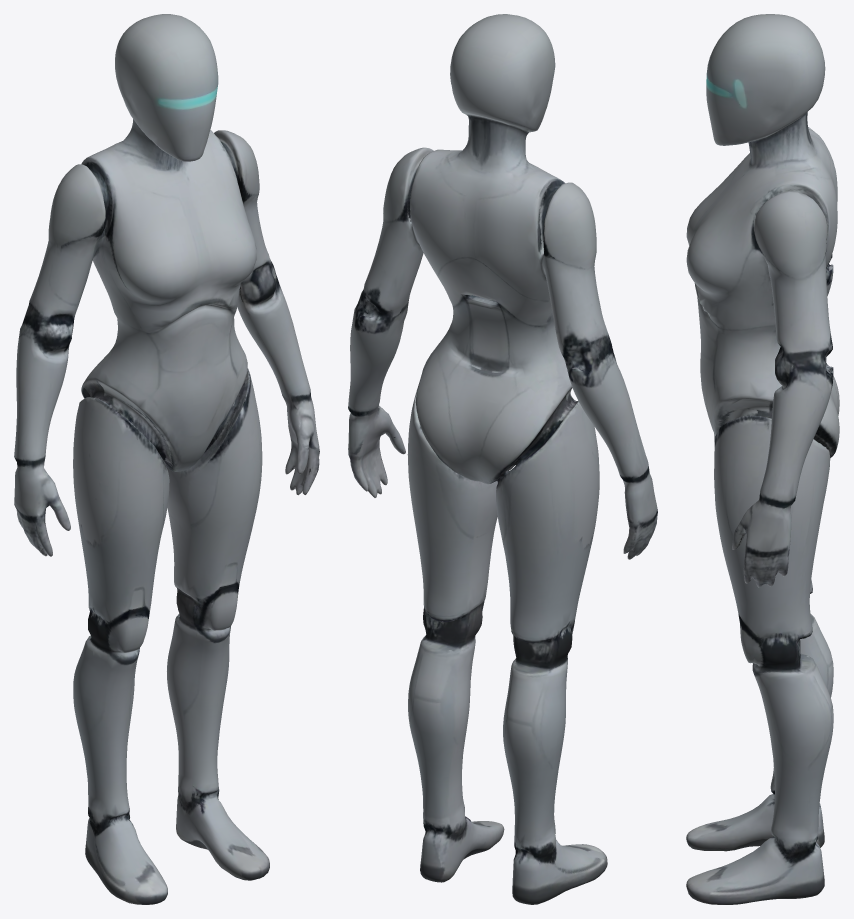
The model's file is figure.glb.
3 renders of one model, left to right at view 1: azimuth 30°, elevation 25°; view 2: azimuth 150°, elevation 25°; view 3: azimuth 270°, elevation 25°, orthographic.
Visible parts, largest first — view 1: model; view 2: model; view 3: model.
Part boxes in pixels (left/top/right/bottom): model: left=14, top=14, right=319, bottom=904; model: left=348, top=14, right=657, bottom=904; model: left=686, top=14, right=839, bottom=904.
Bounding box in the file's own units: 0.6912 × 1.9 × 0.3105.
1 material, 1 textured.
